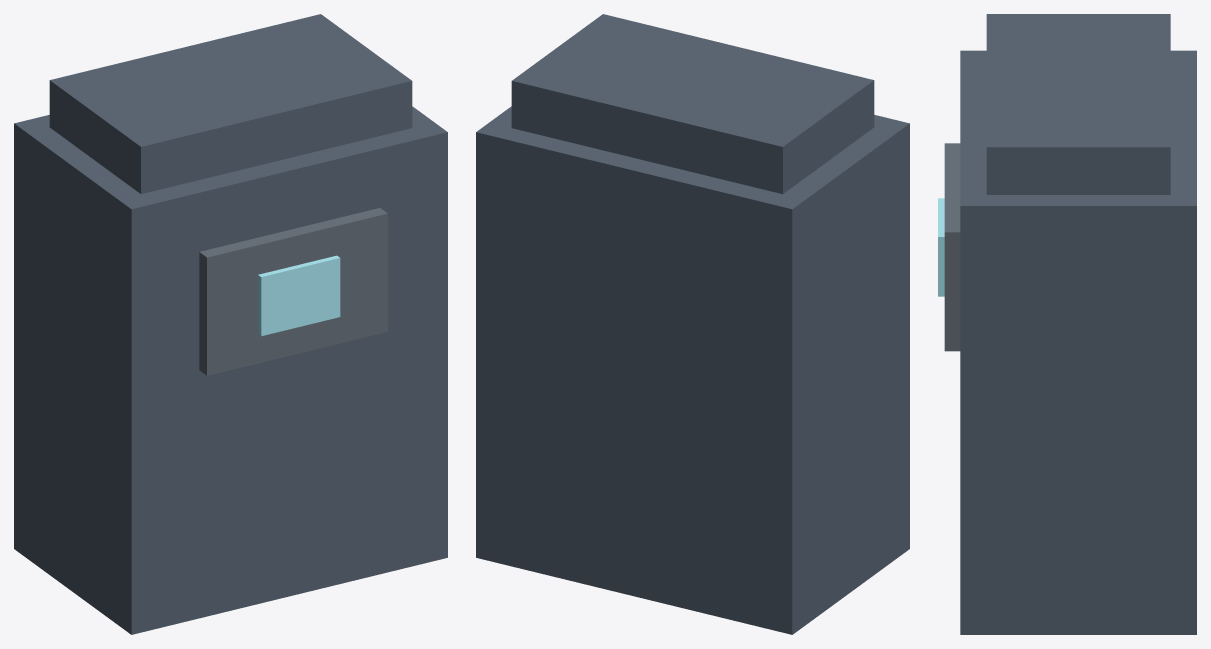
File: Lab_Power_Unit.fbx
3 views of the same model, side by side, from view 1: azimuth 30°, elevation 25°; view 2: azimuth 150°, elevation 25°; view 3: azimuth 270°, elevation 25° (orthographic).
Parts seen in each view (by area): view 1: Lab_Power_Unit; view 2: Lab_Power_Unit; view 3: Lab_Power_Unit.
Part boxes in pixels (box(x1,y1,x2,y2)): Lab_Power_Unit: box(14, 14, 447, 634); Lab_Power_Unit: box(476, 14, 909, 634); Lab_Power_Unit: box(938, 14, 1196, 634).
Size of the model in its own units: 1.4 by 2 by 0.985.
